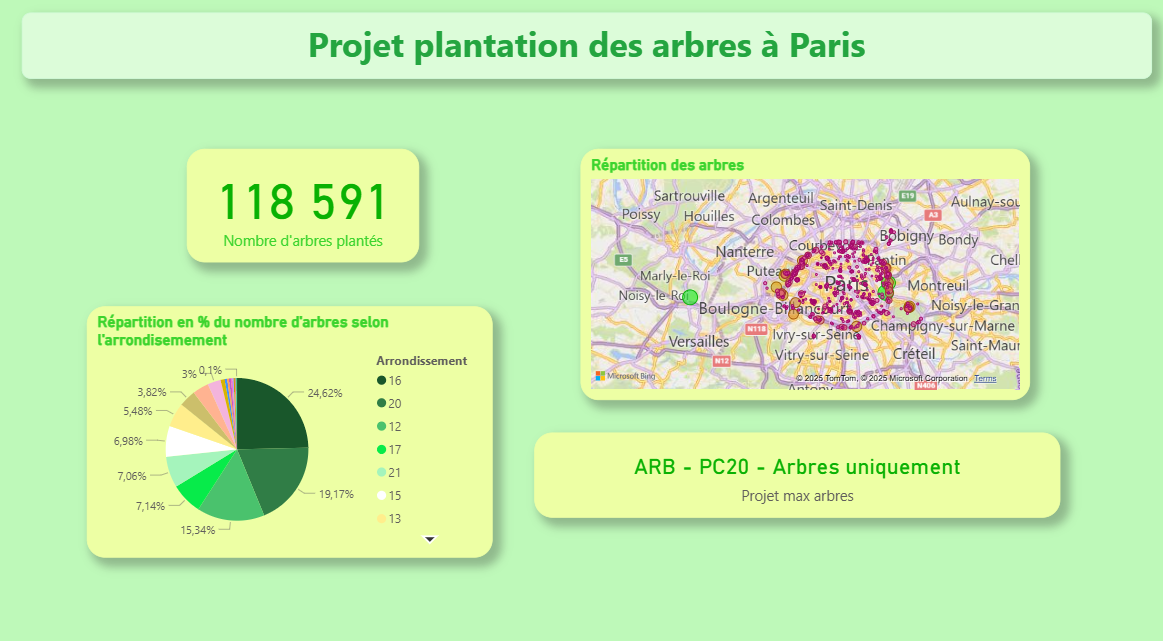

The dashboard page shown, as its layout file describes it:
{"tool":"powerbi","page":{"name":"Page 1","canvas":[1280,720],"ordinal":0},"visuals":[{"type":"pieChart","title":"Répartition en % du nombre d''arbres selon l''arrondisemement ","fields":{"Category":["arbres-plantes-par-projet (2).Arrondissement"],"Y":["Sum(arbres-plantes-par-projet (2).Nombre d'arbres plantés)"]},"box":[97.4,347.2,446,275.8],"z":0},{"type":"map","title":"Répartition des arbres","fields":{"X":["Sum(arbres-plantes-par-projet (2).geo_point_2d.2)"],"Y":["arbres-plantes-par-projet (2).geo_point_2d.1"],"Size":["Sum(arbres-plantes-par-projet (2).Nombre d'arbres plantés)"]},"box":[639.5,174.3,494,275.8],"z":1000},{"type":"card","fields":{"Values":["Sum(arbres-plantes-par-projet (2).Nombre d'arbres plantés)"]},"box":[207.2,174.3,255.2,124.9],"z":2000},{"type":"card","fields":{"Values":["Table1.Projet max arbres"]},"box":[588.7,485.8,577.7,93.3],"z":3000},{"type":"textbox","box":[26.1,24.7,1240.5,72.7],"z":4000}]}

Visuals, with their boxes in screenshot pixels (x1, y1, x2, y2), scaled from the page's 1280x720 canvas onto the 1163x641 screenshot:
"Répartition en % du nombre d''arbres selon l''arrondisemement " pieChart: region(88, 309, 494, 555)
"Répartition des arbres" map: region(581, 155, 1030, 401)
card - Sum(arbres-plantes-par-projet (2).Nombre d'arbres plantés): region(188, 155, 420, 266)
card - Table1.Projet max arbres: region(535, 432, 1060, 516)
textbox: region(24, 22, 1151, 87)
